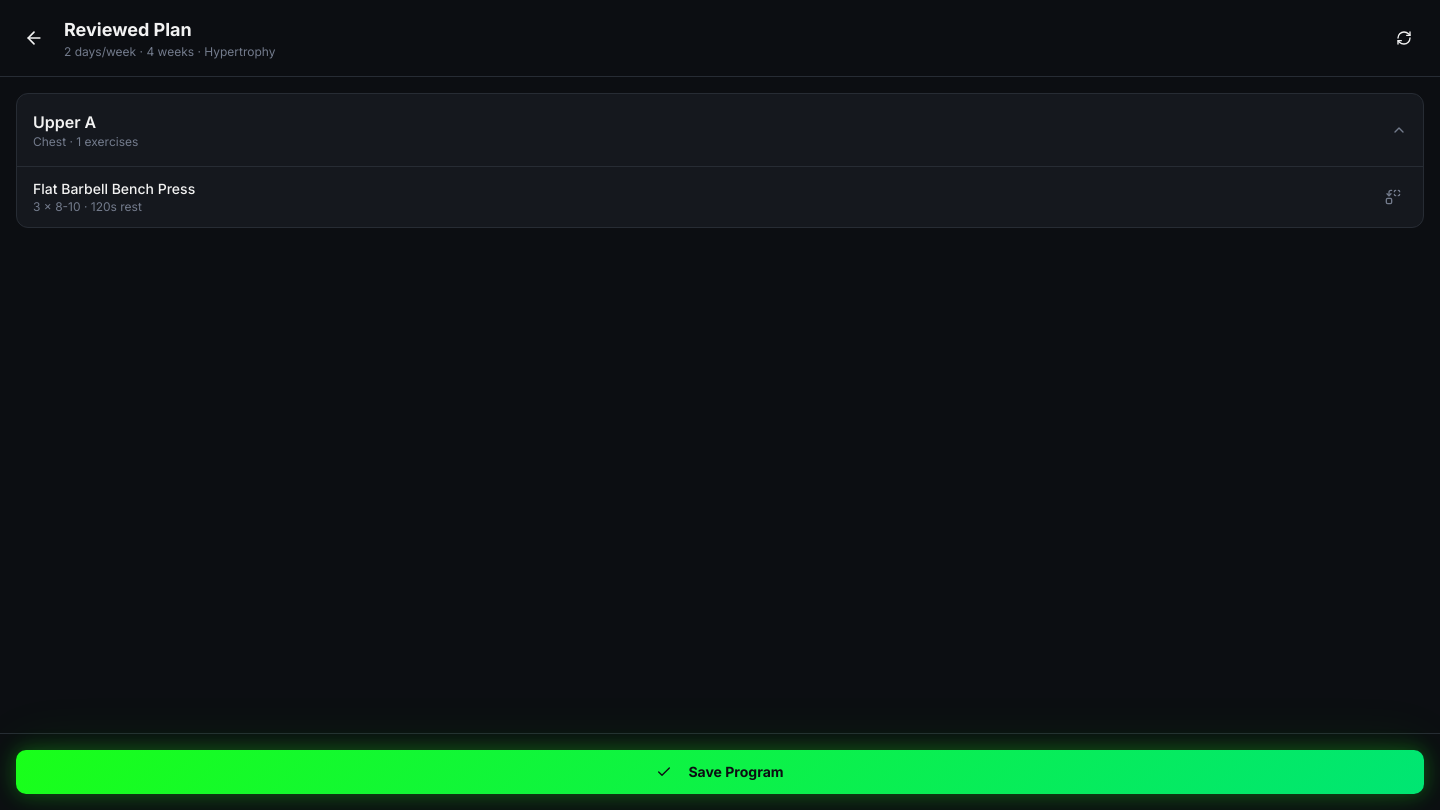
it: regenerating a reviewed AI program › warns about lost swaps only once the user has made one
Click the button named "Regenerate program" at (1404, 38), box x1=1384 y1=18 x2=1424 y2=58
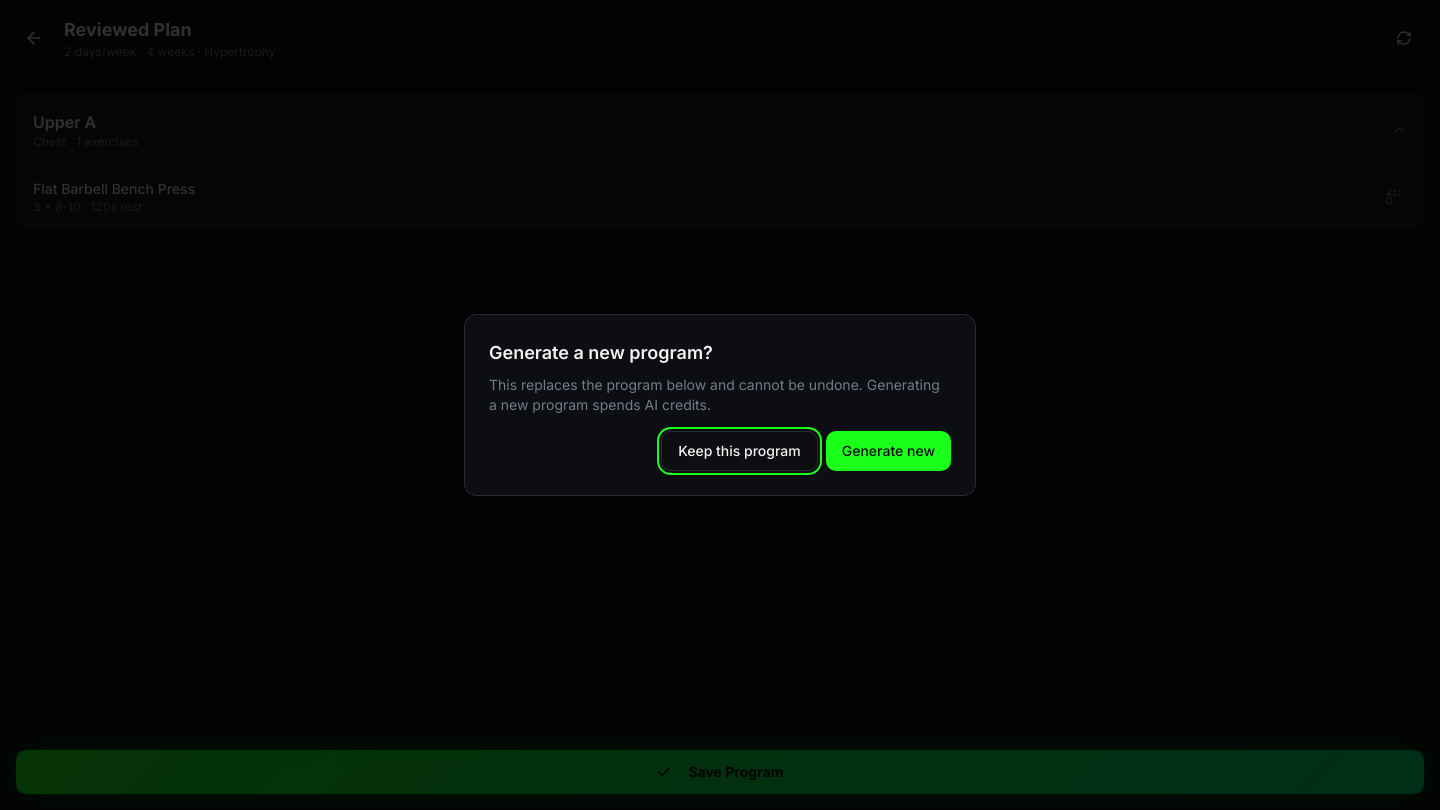
Expected: the dialog does not show "exercise swaps", x1=464 y1=314 x2=976 y2=496
Click the button "Keep this program" at (740, 451), box x1=661 y1=431 x2=818 y2=471
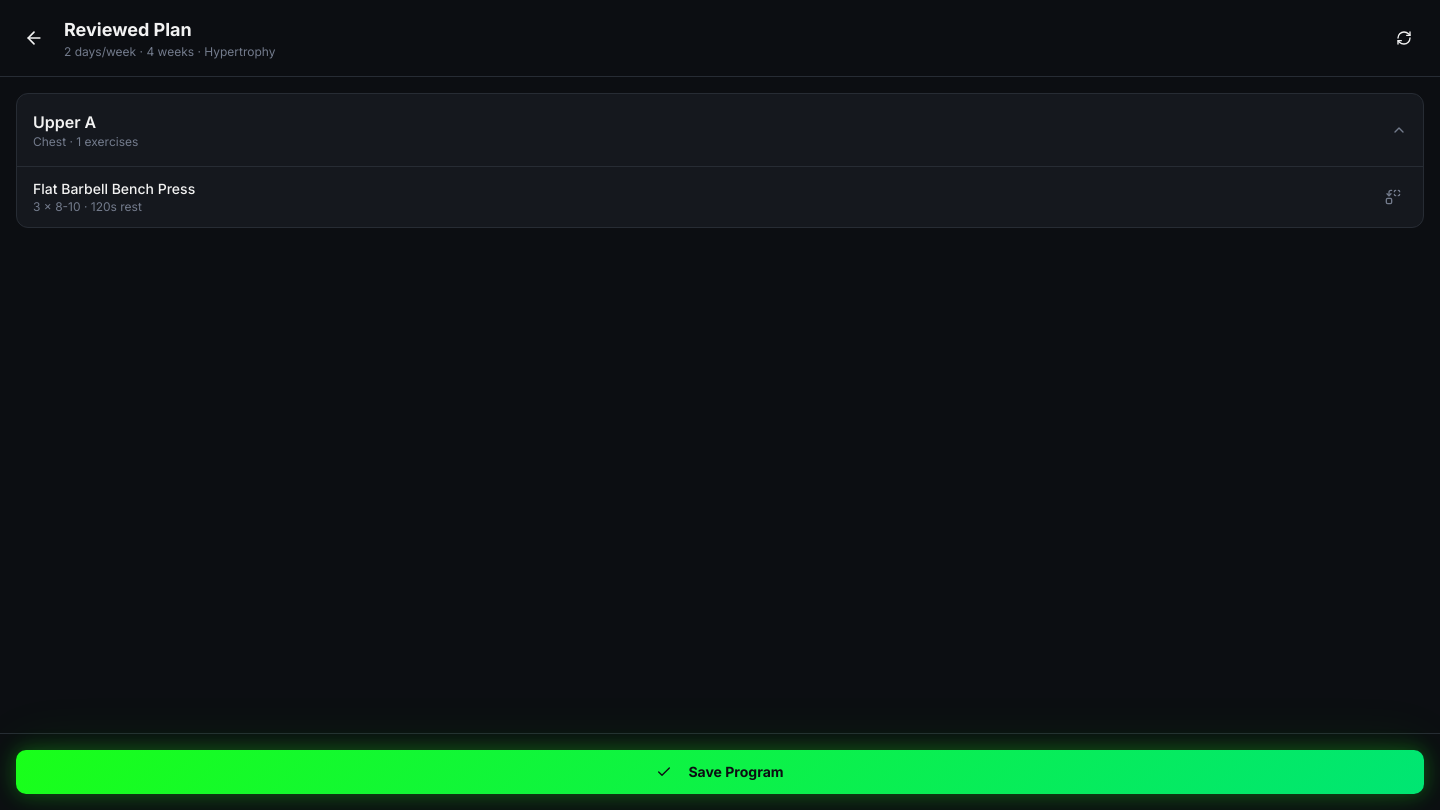
Click the button named "Swap Flat Barbell Bench Press" at (1393, 197), box x1=1379 y1=183 x2=1407 y2=211
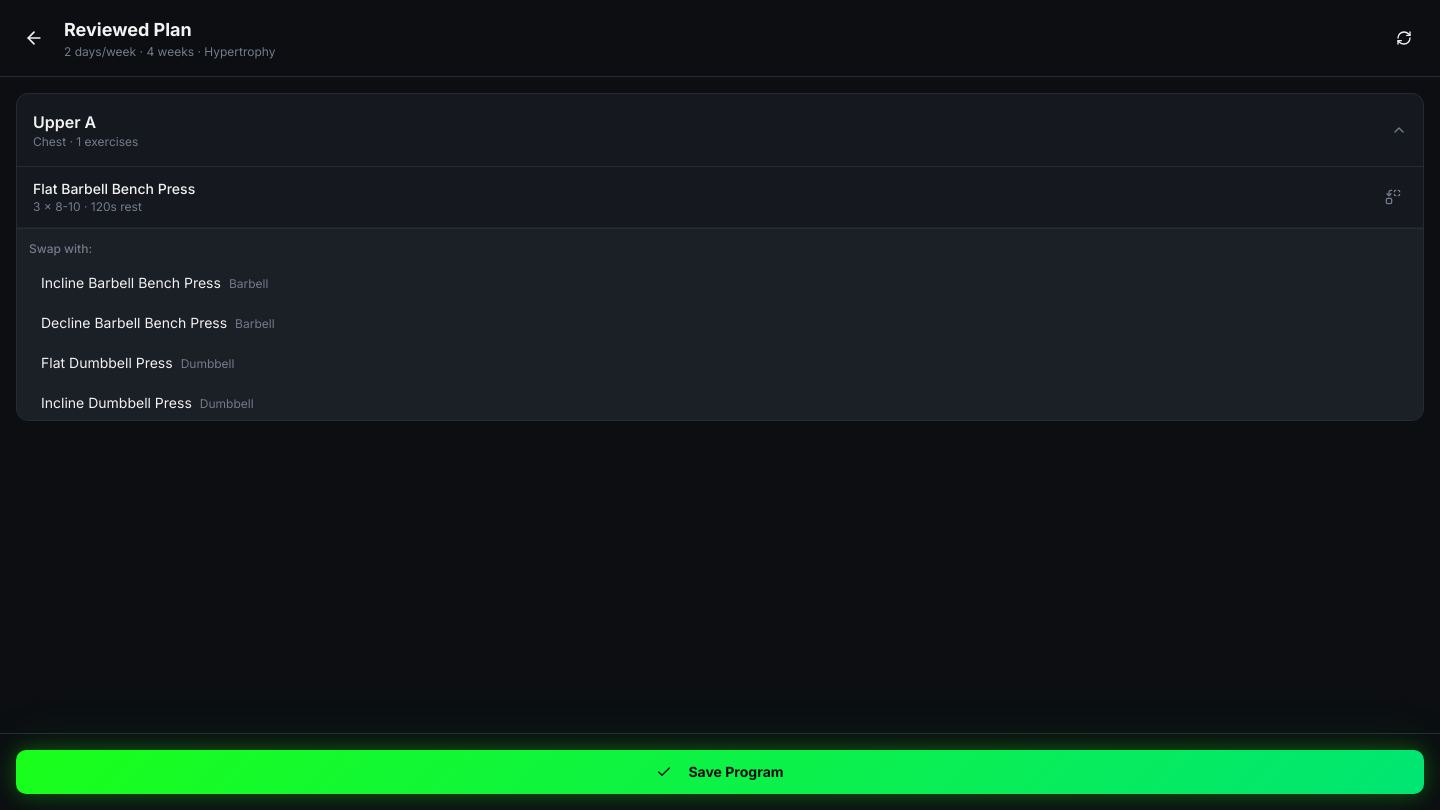
Click the button "Flat Dumbbell Press" at (107, 362), box x1=29 y1=345 x2=1411 y2=381
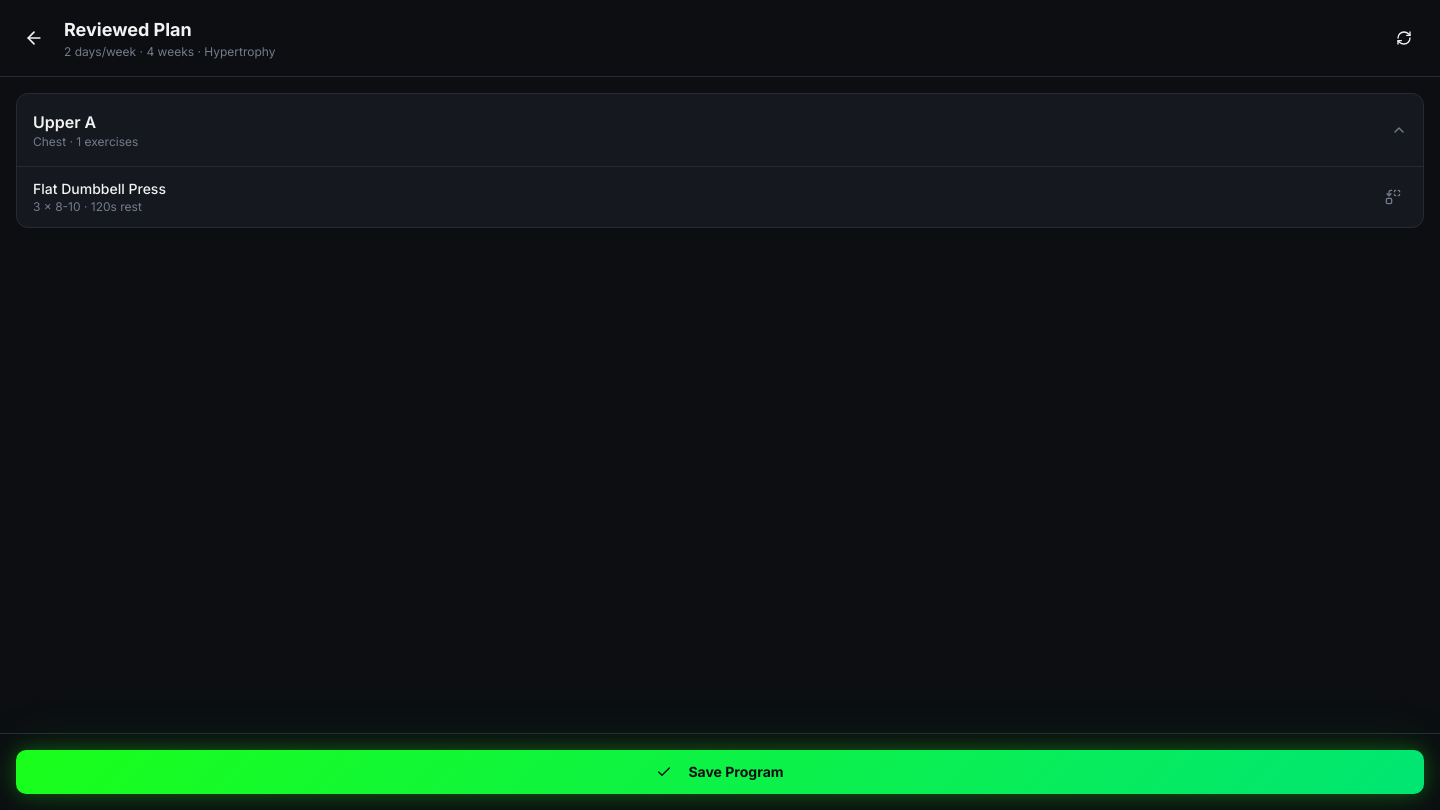
Click the button named "Regenerate program" at (1404, 38), box x1=1384 y1=18 x2=1424 y2=58
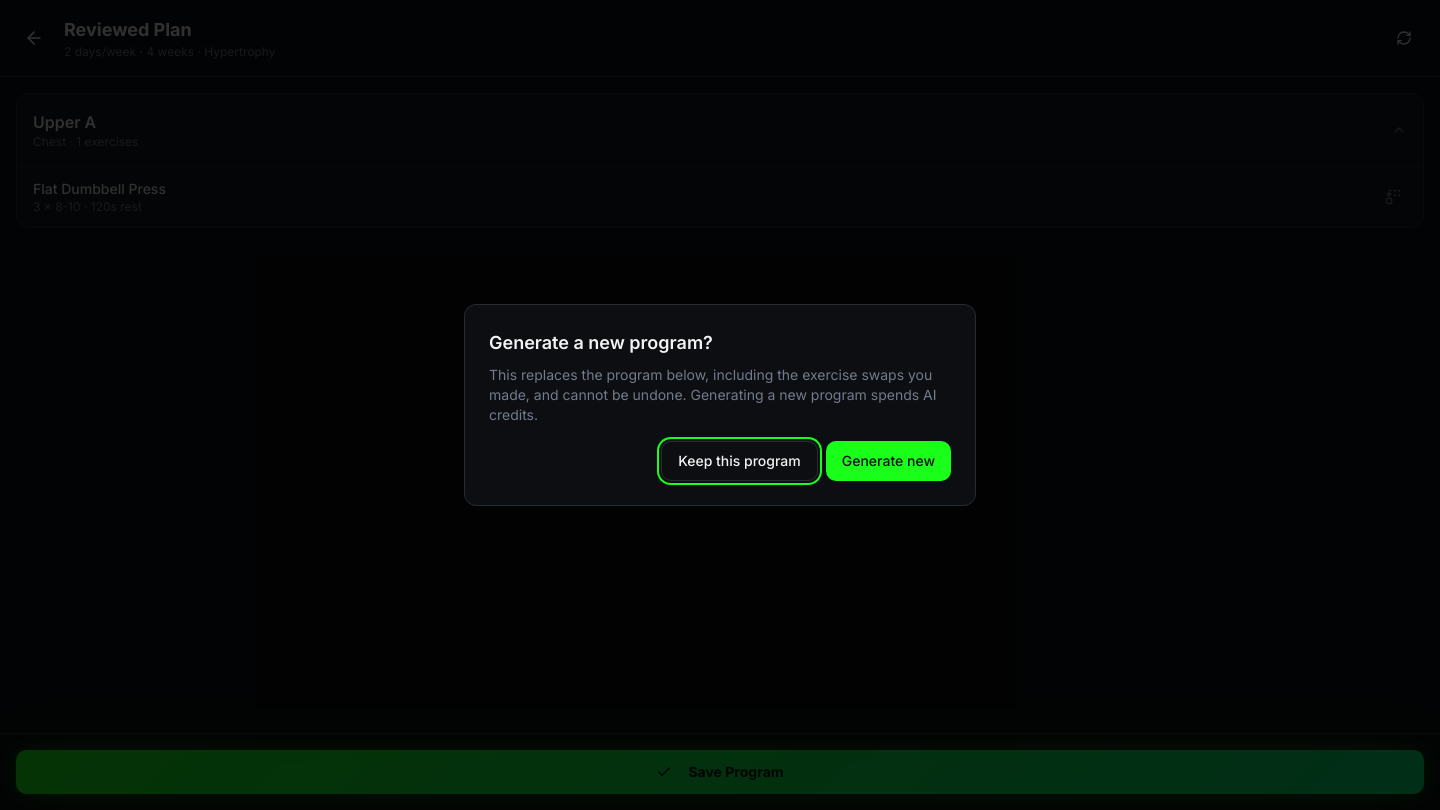
Result: the dialog shows "exercise swaps you made" at x1=489 y1=366 x2=936 y2=423
